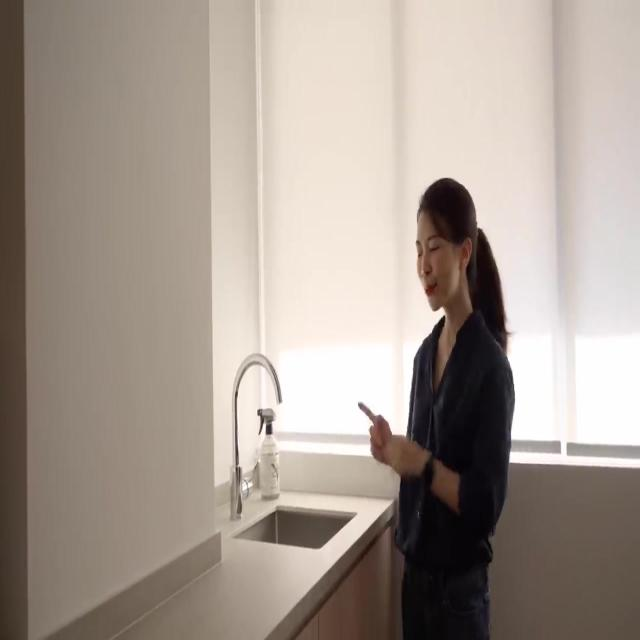obstacle: (294, 521, 394, 639)
person: (364, 177, 516, 638)
